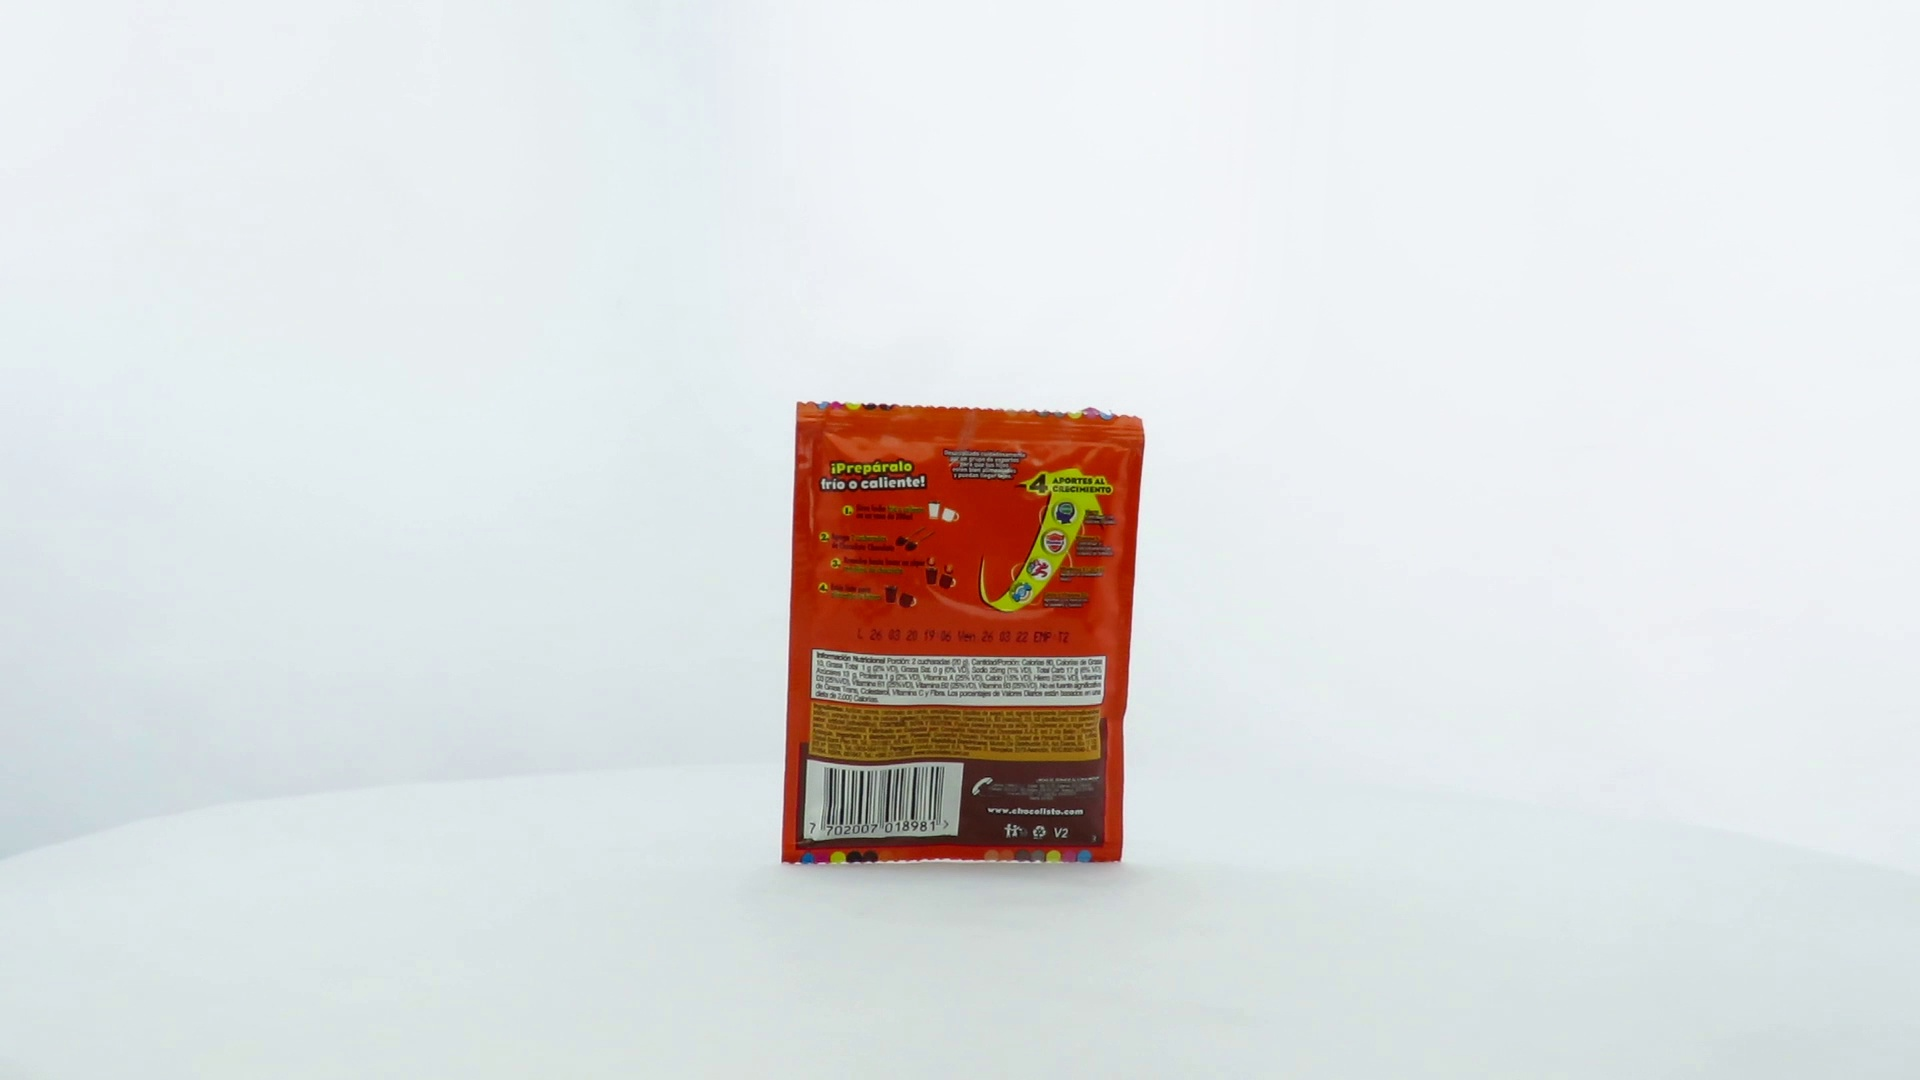COL0170103SOB02000: (775, 396, 1151, 874)
